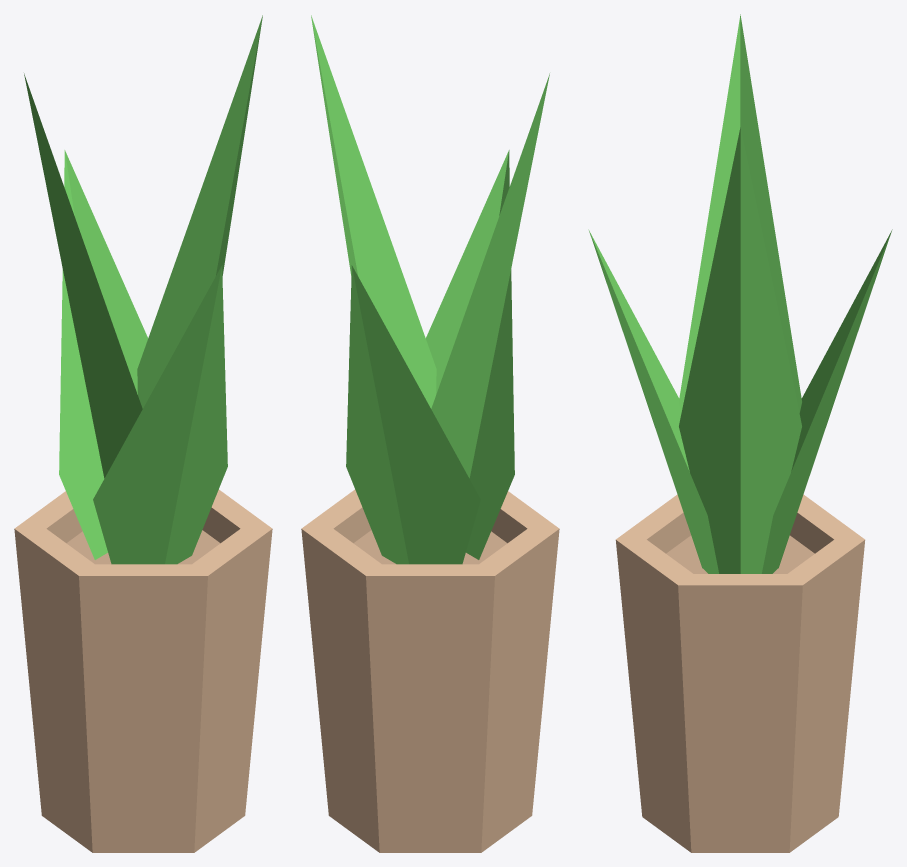
Rendered from k_pottedPlant.glb.
The picture shows the model from 3 angles, left to right: view 1: azimuth 30°, elevation 25°; view 2: azimuth 150°, elevation 25°; view 3: azimuth 270°, elevation 25°; orthographic projection. The views are drawn at different scales.
Parts seen in each view (by area): view 1: pottedPlant(Clone), plant; view 2: pottedPlant(Clone), plant; view 3: pottedPlant(Clone), plant.
Part boxes in pixels (<box>): pottedPlant(Clone): <box>14,489,272,852</box>; plant: <box>24,15,262,564</box>; pottedPlant(Clone): <box>301,489,559,852</box>; plant: <box>311,15,549,564</box>; pottedPlant(Clone): <box>615,494,865,852</box>; plant: <box>588,14,892,573</box>.
Size of the model in its own units: 0.4347 by 1.34 by 0.495.
